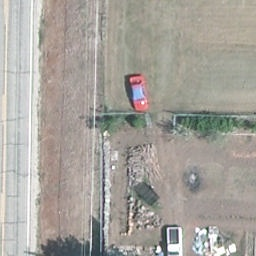car: (127, 75, 149, 113)
